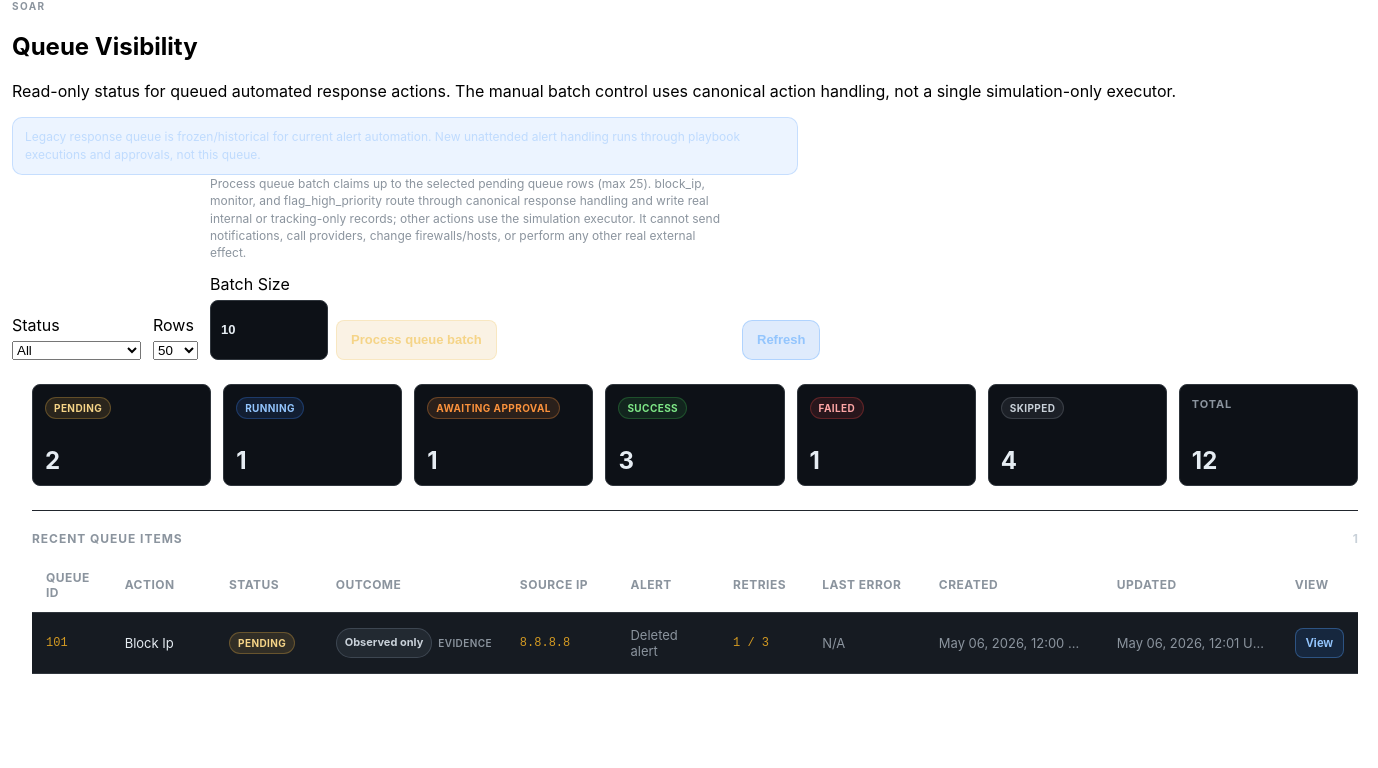
Test: SoarQueuePanel › loads and renders queue item detail from view action
Expected: the text "Recent Queue Items" is shown, [32,531,183,546]
Expected: the text "queue-idempotency-key-101" is not shown
Click the button "View" at (1319, 643), box [1295,628,1344,658]
(page scrolled)
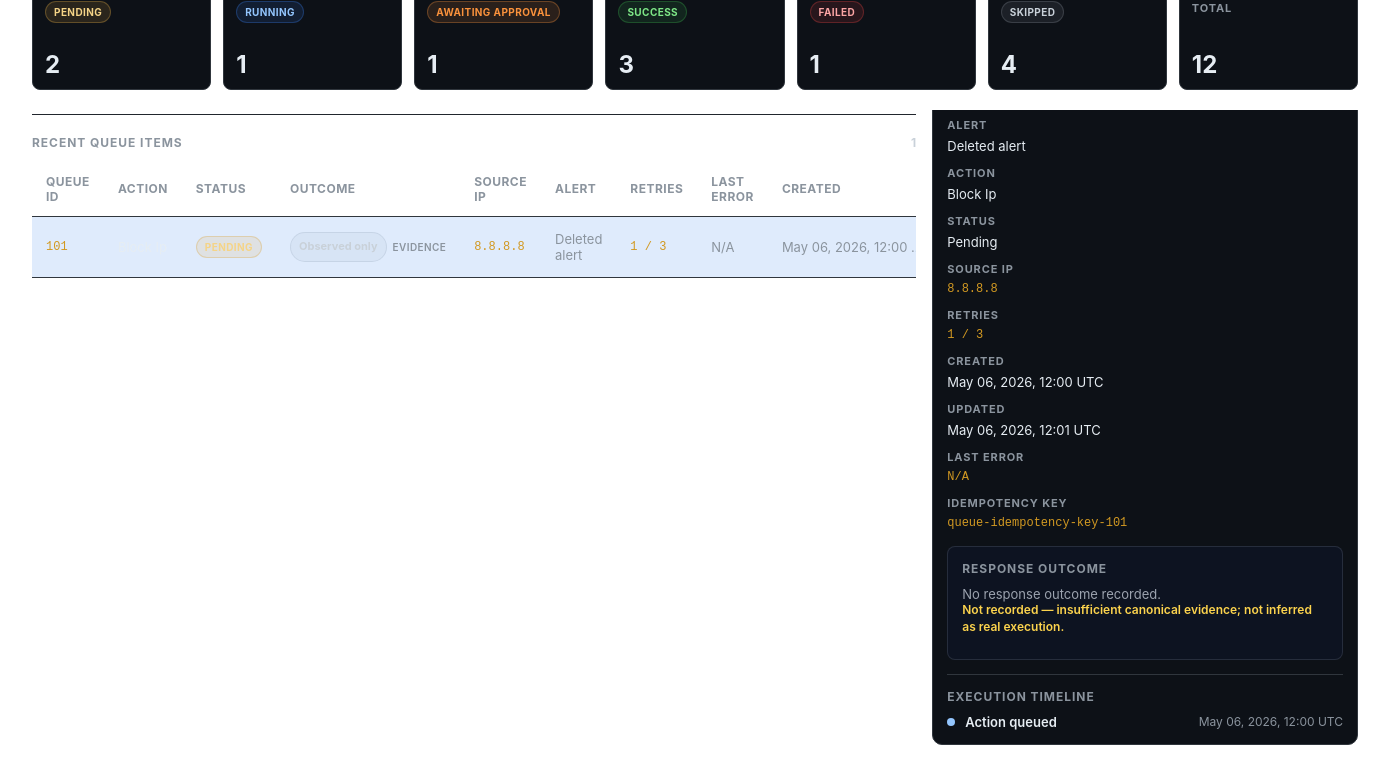
Expected: the text "queue-idempotency-key-101" is shown, [947,516,1127,530]
